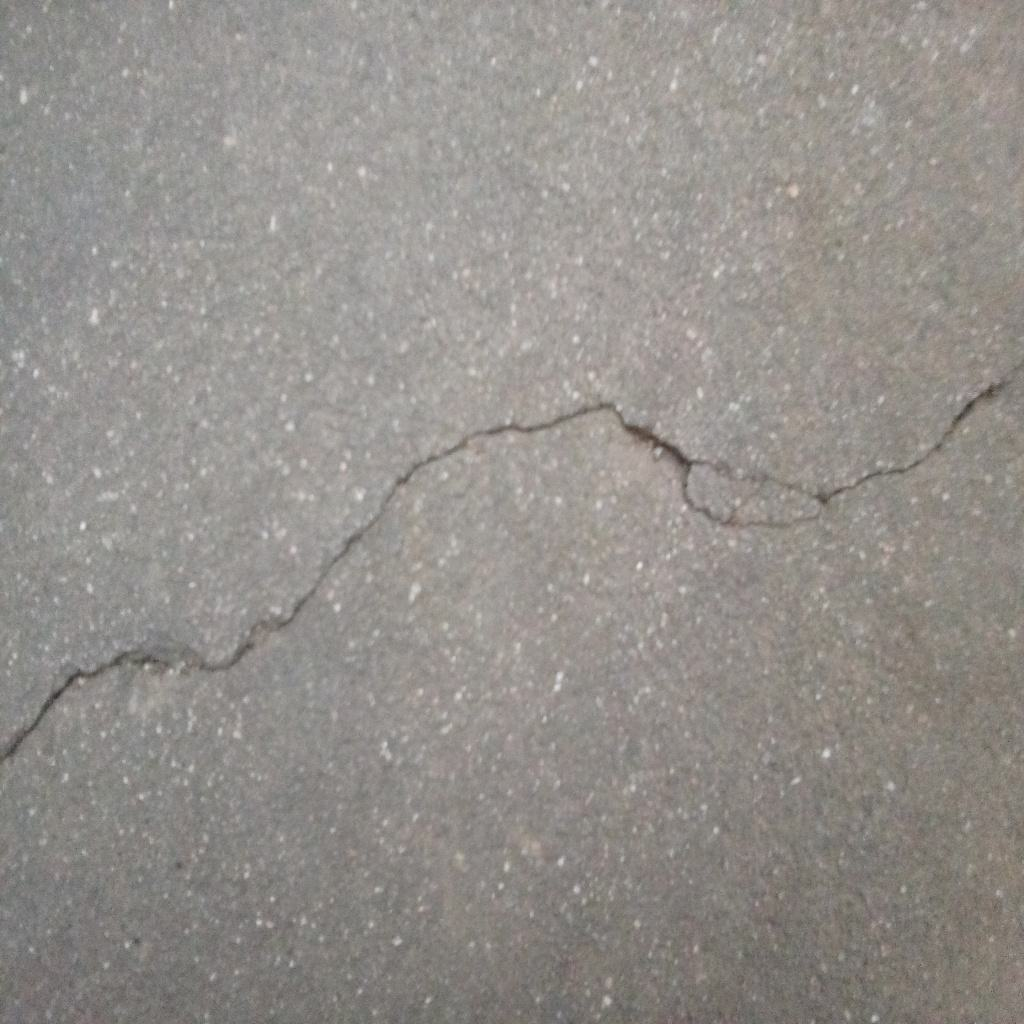Crack: (1, 367, 1024, 764)
